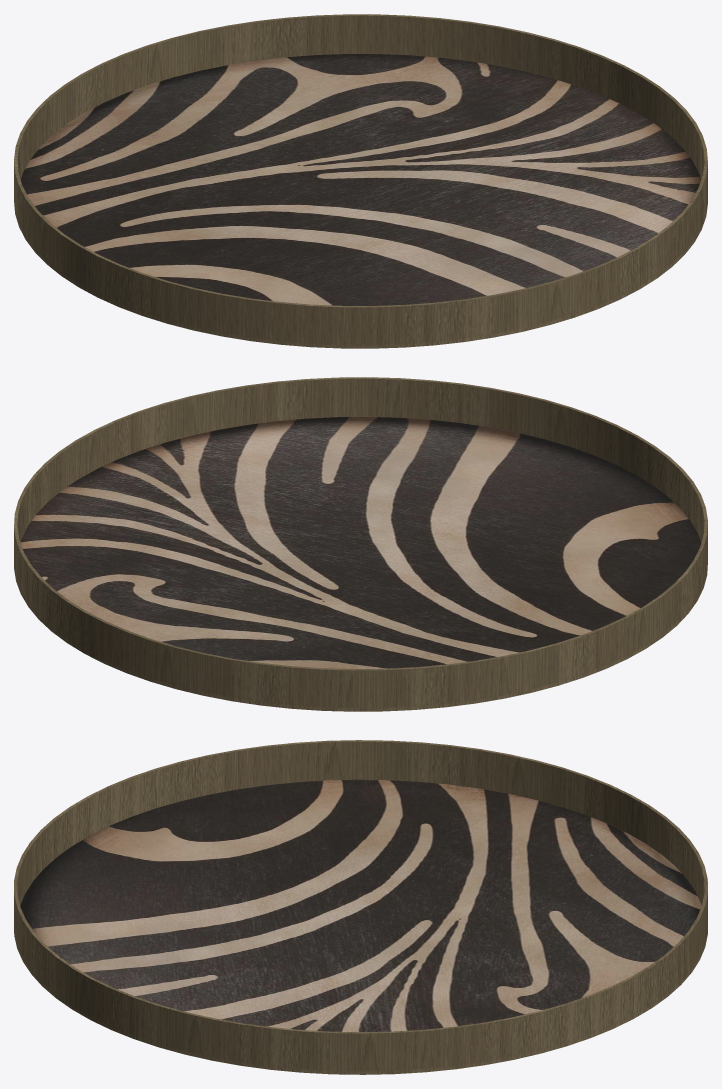
Rendered from Folk_WoodenTray-Large.glb.
3 renders of one model, top to bottom at view 1: azimuth 30°, elevation 25°; view 2: azimuth 150°, elevation 25°; view 3: azimuth 270°, elevation 25°, orthographic.
Parts seen in each view (by area): view 1: model; view 2: model; view 3: model.
Boxes of the visible parts, x1,y1,x2,y2 form: model: [14, 14, 707, 348]; model: [14, 377, 707, 711]; model: [14, 740, 707, 1074].
Bounding box in the file's own units: 0.6381 × 0.0418 × 0.6376.
2 materials, 2 textured.
